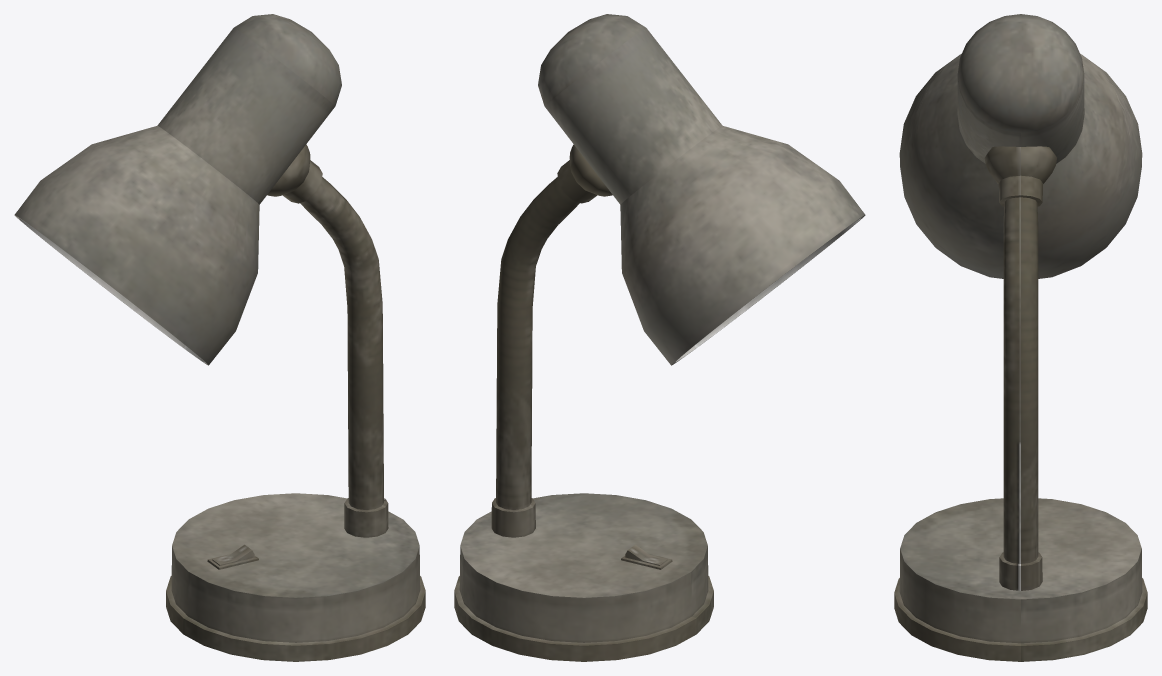
Rendered from SM_OfficeModern_Lamp.obj.
3 renders of one model, left to right at view 1: azimuth 30°, elevation 25°; view 2: azimuth 150°, elevation 25°; view 3: azimuth 270°, elevation 25°, orthographic. The views are drawn at different scales.
Parts seen in each view (by area): view 1: SM_OfficeModern_Lamp; view 2: SM_OfficeModern_Lamp; view 3: SM_OfficeModern_Lamp.
Part boxes in pixels (x1=…): SM_OfficeModern_Lamp: x1=14, y1=14, x2=425, y2=661; SM_OfficeModern_Lamp: x1=454, y1=14, x2=865, y2=661; SM_OfficeModern_Lamp: x1=894, y1=14, x2=1147, y2=661.
Bounding box in the file's own units: 30.83 × 46.86 × 18.61.
Materials: 2 (2 with a texture image).
